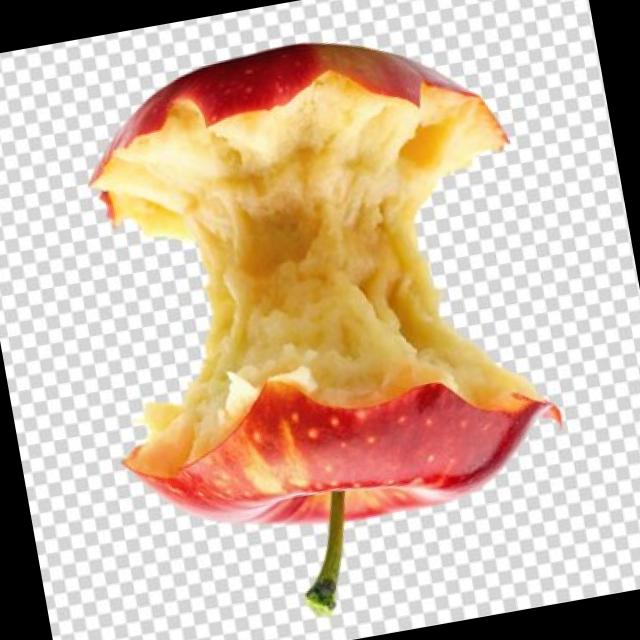apple_fruit: (70, 27, 569, 548)
